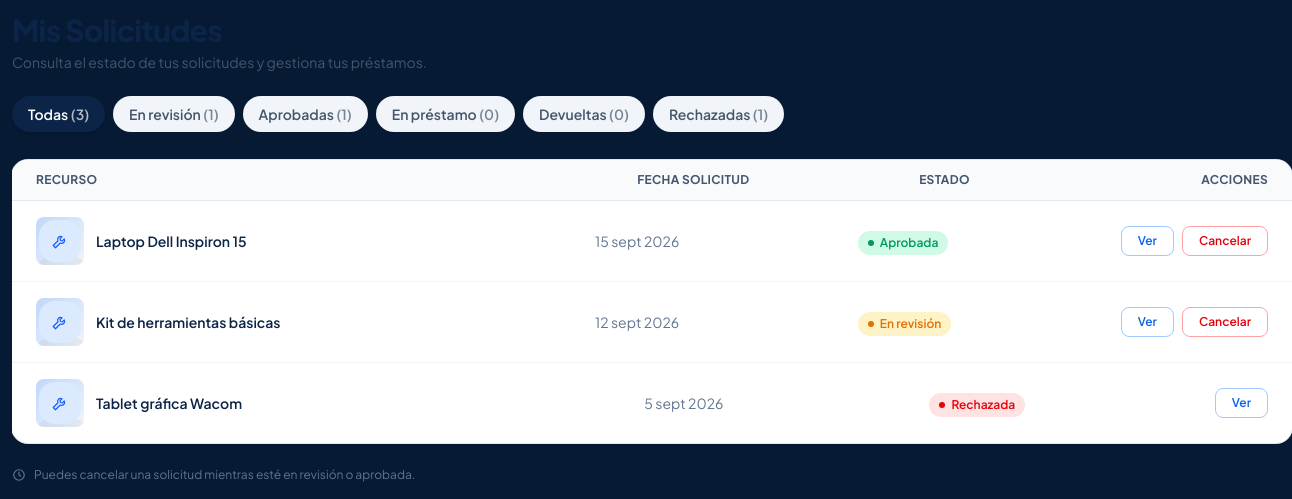
Mis solicitudes (HU-007) › lista las solicitudes y filtra por estado
Expected: the text "Laptop Dell Inspiron 15" is shown, [96, 231, 247, 251]
Expected: the text "Tablet gráfica Wacom" is shown, [96, 393, 242, 413]
Click the button "Rechazadas (1)".
click(719, 114)  # box [653, 96, 784, 132]
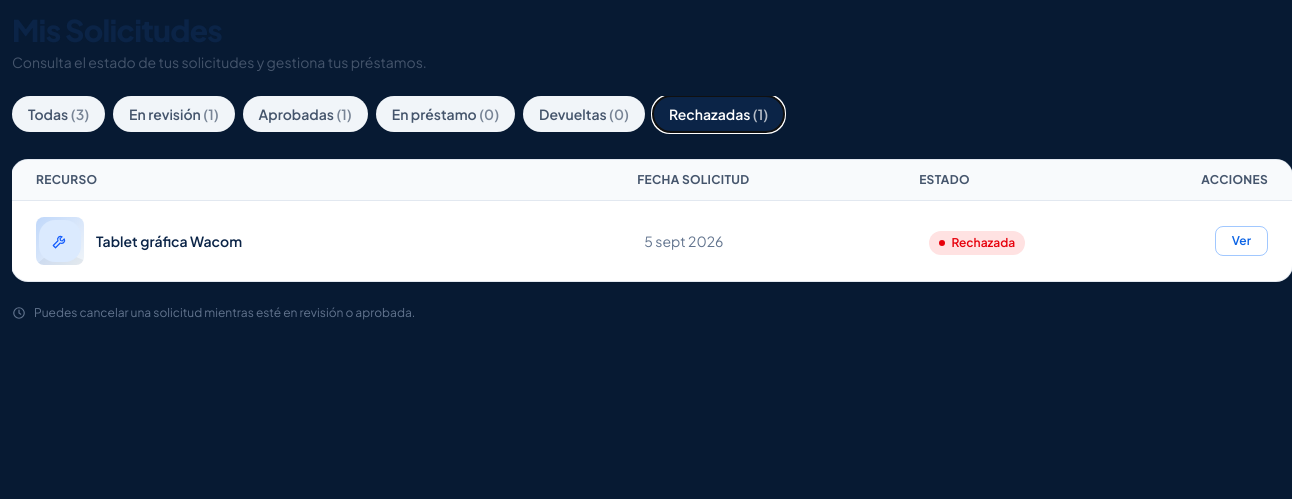
Expected: the text "Tablet gráfica Wacom" is shown, [96, 231, 242, 251]
Now the text "Laptop Dell Inspiron 15" is gone
